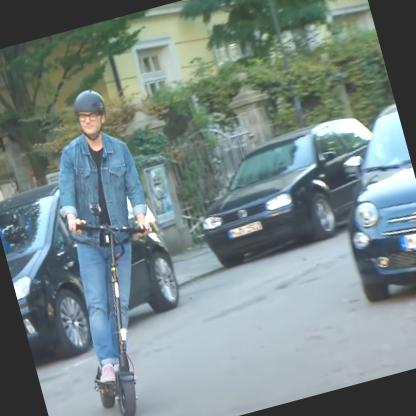helmet: (72, 89, 112, 139)
human: (63, 92, 153, 386)
kickboard: (93, 375, 143, 416)
